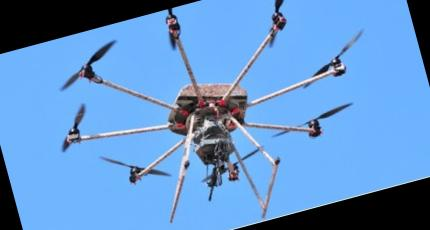drone: (16, 0, 408, 230)
